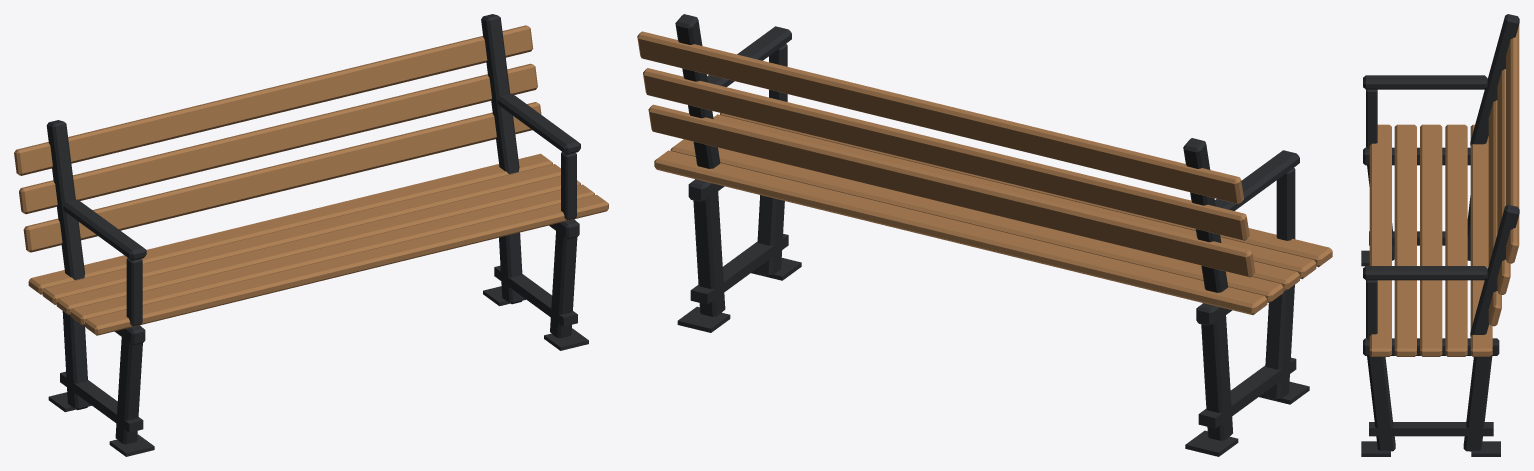
The model's file is SC_Str_Bench.gltf.
The picture shows the model from 3 angles, left to right: view 1: azimuth 30°, elevation 25°; view 2: azimuth 150°, elevation 25°; view 3: azimuth 270°, elevation 25°; orthographic projection. The views are drawn at different scales.
Parts seen in each view (by area): view 1: SC_Str_Bench; view 2: SC_Str_Bench; view 3: SC_Str_Bench.
Part boxes in pixels (x1,y1,x2,y2): SC_Str_Bench: (14,14,608,456); SC_Str_Bench: (637,14,1332,456); SC_Str_Bench: (1361,14,1519,456).
Bounding box in the file's own units: 1.8 × 0.9067 × 0.5328.
1 material, 1 textured.
